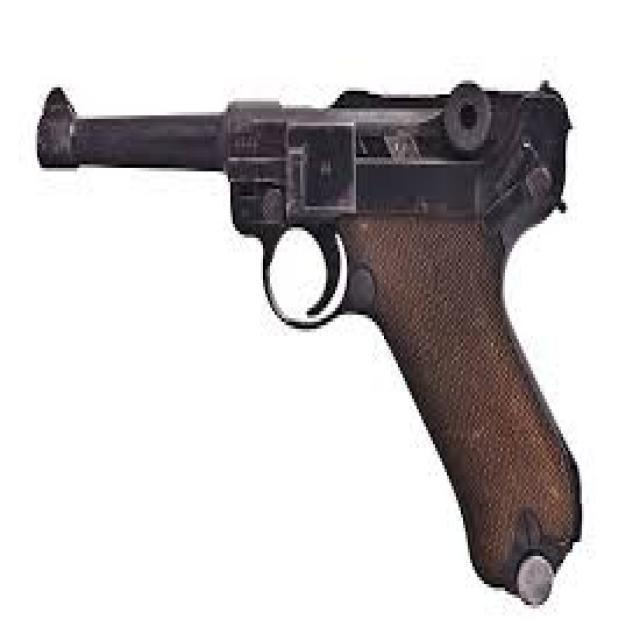semi automatic: (32, 65, 589, 612)
